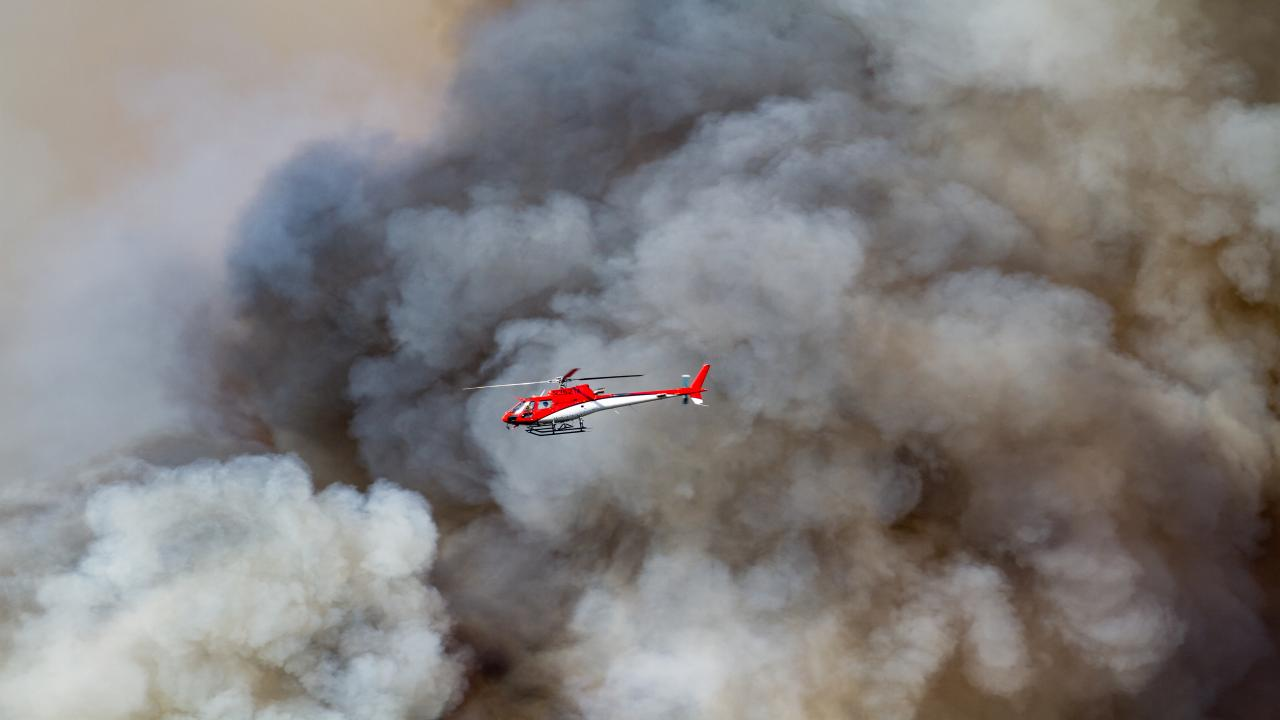Helicopter: (441, 326, 738, 476)
